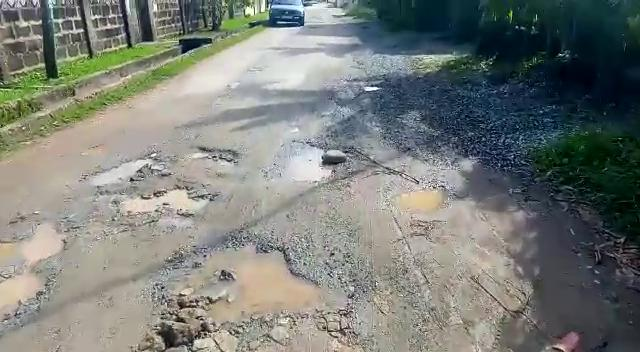pothole: (153, 242, 346, 318), (0, 219, 68, 272), (271, 137, 336, 185), (79, 149, 156, 187), (127, 184, 213, 216), (0, 275, 54, 322), (386, 184, 450, 217), (190, 145, 241, 165)
